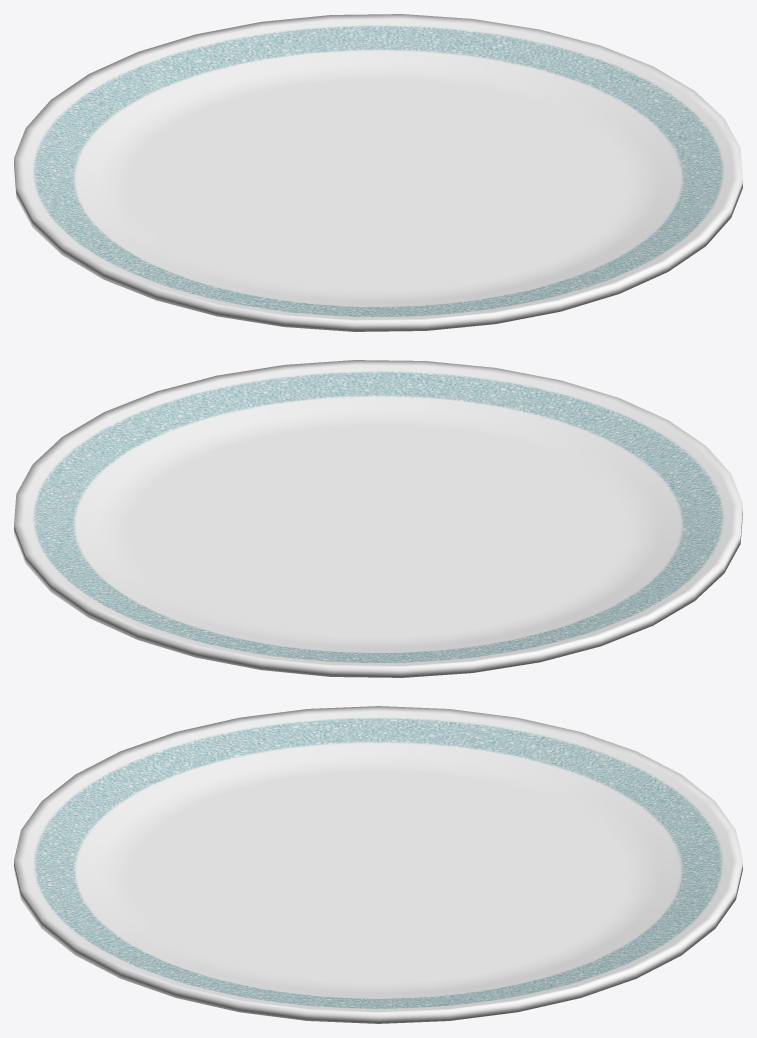
File: Plate.fbx
The picture shows the model from 3 angles, top to bottom: view 1: azimuth 30°, elevation 25°; view 2: azimuth 150°, elevation 25°; view 3: azimuth 270°, elevation 25°; orthographic projection.
Visible parts, largest first — view 1: Dinner Plate; view 2: Dinner Plate; view 3: Dinner Plate.
Boxes of the visible parts, <box> form: Dinner Plate: <box>14,14,742,331</box>; Dinner Plate: <box>14,360,742,677</box>; Dinner Plate: <box>14,706,742,1023</box>.
Size of the model in its own units: 28.12 by 1.7 by 28.12.
Materials: 1 (1 with a texture image).
